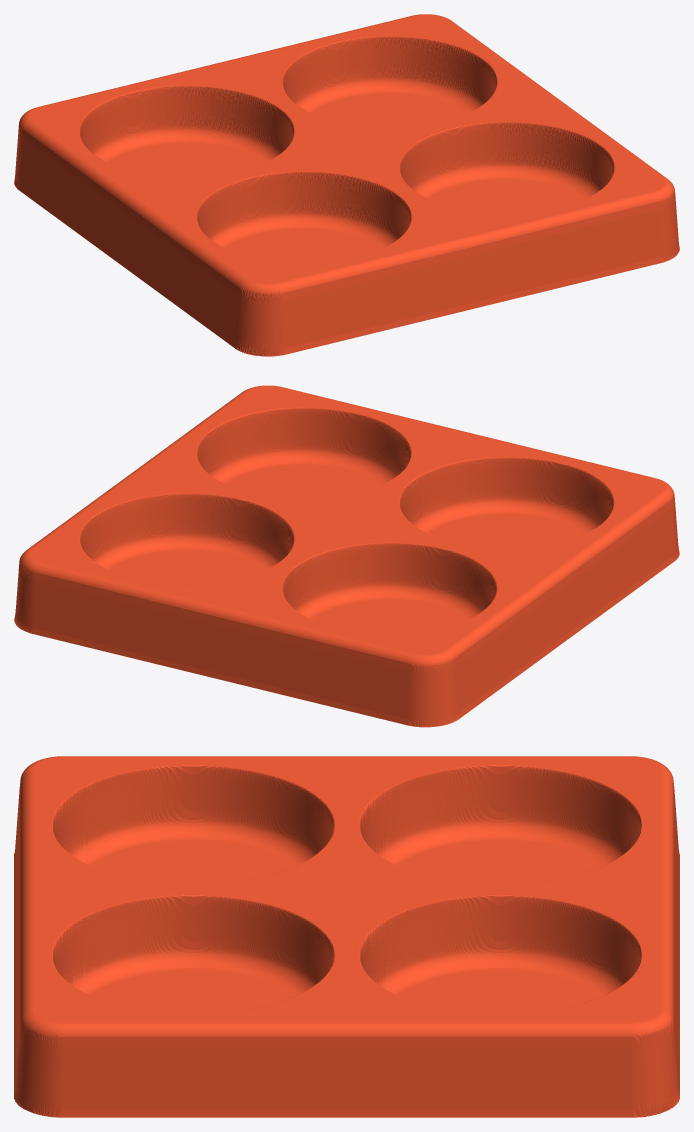
The model's file is mold.glb.
The picture shows the model from 3 angles, top to bottom: view 1: azimuth 30°, elevation 25°; view 2: azimuth 150°, elevation 25°; view 3: azimuth 270°, elevation 25°; orthographic projection. The views are drawn at different scales.
Parts seen in each view (by area): view 1: geometry_0; view 2: geometry_0; view 3: geometry_0.
Boxes of the visible parts, box(x1,y1,x2,y2) form: geometry_0: box(14, 14, 679, 356); geometry_0: box(14, 385, 679, 727); geometry_0: box(14, 756, 679, 1117).
Size of the model in its own units: 0.1211 by 0.0175 by 0.1211.
